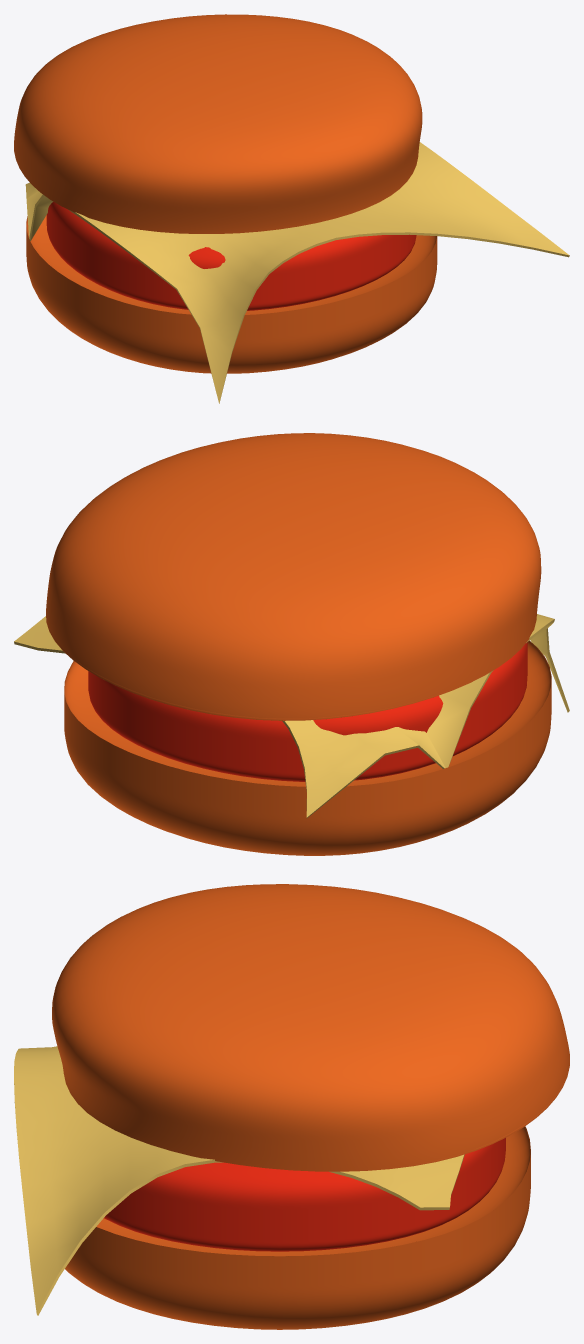
File: hamburger.glb
The picture shows the model from 3 angles, top to bottom: view 1: azimuth 30°, elevation 25°; view 2: azimuth 150°, elevation 25°; view 3: azimuth 270°, elevation 25°; orthographic projection. The views are drawn at different scales.
Parts seen in each view (by area): view 1: Cube.000, Plane, Cube.001, Cube.002; view 2: Cube.000, Cube.001, Cube.002, Plane; view 3: Cube.000, Cube.001, Cube.002, Plane.
Boxes of the visible parts, x1,y1,x2,y2 form: Cube.000: [14, 14, 422, 233]; Plane: [25, 142, 569, 403]; Cube.001: [26, 215, 437, 373]; Cube.002: [46, 201, 416, 310]; Cube.000: [46, 433, 541, 720]; Cube.001: [64, 640, 551, 855]; Cube.002: [88, 642, 527, 781]; Plane: [14, 614, 569, 818]; Cube.000: [52, 884, 569, 1171]; Cube.001: [65, 1126, 530, 1329]; Cube.002: [104, 1138, 505, 1251]; Plane: [14, 1046, 464, 1315].
Bounding box in the file's own units: 14.67 × 8.52 × 13.57.
